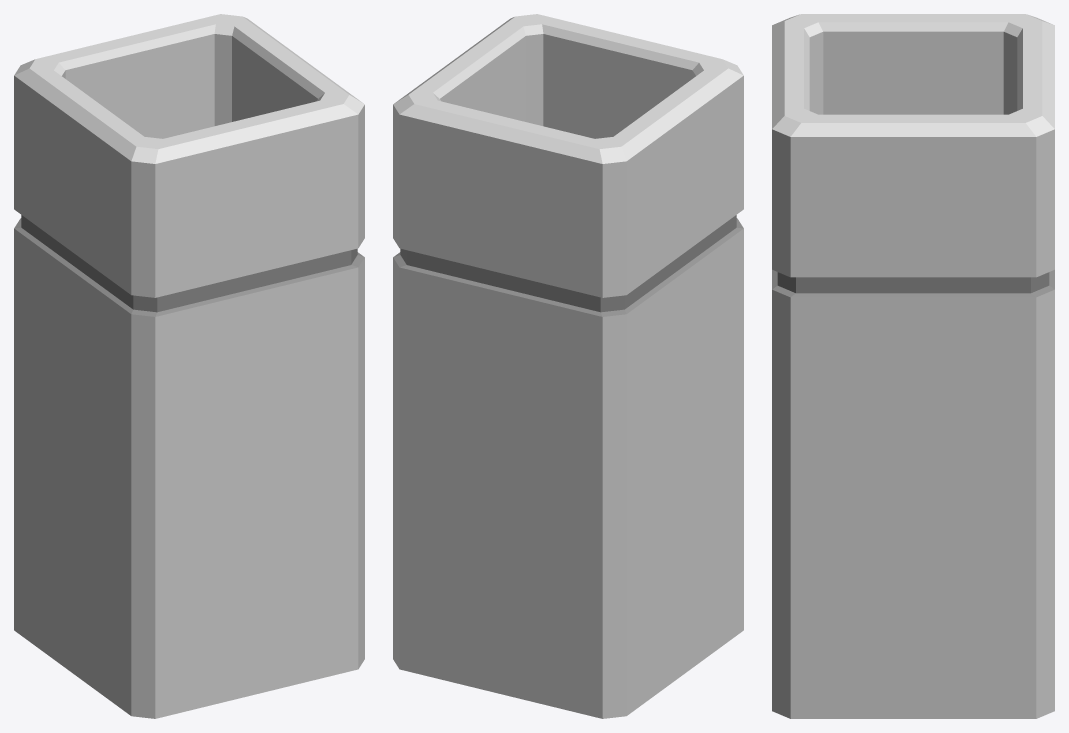
The model's file is garbage_can.FBX.
3 views of the same model, side by side, from view 1: azimuth 30°, elevation 25°; view 2: azimuth 150°, elevation 25°; view 3: azimuth 270°, elevation 25° (orthographic). The views are drawn at different scales.
Visible parts, largest first — view 1: garbage_can; view 2: garbage_can; view 3: garbage_can.
Part boxes in pixels (x1,y1,x2,y2): garbage_can: [14, 14, 364, 718]; garbage_can: [393, 14, 743, 718]; garbage_can: [772, 14, 1054, 718].
Size of the model in its own units: 21.97 by 50.63 by 21.97.
